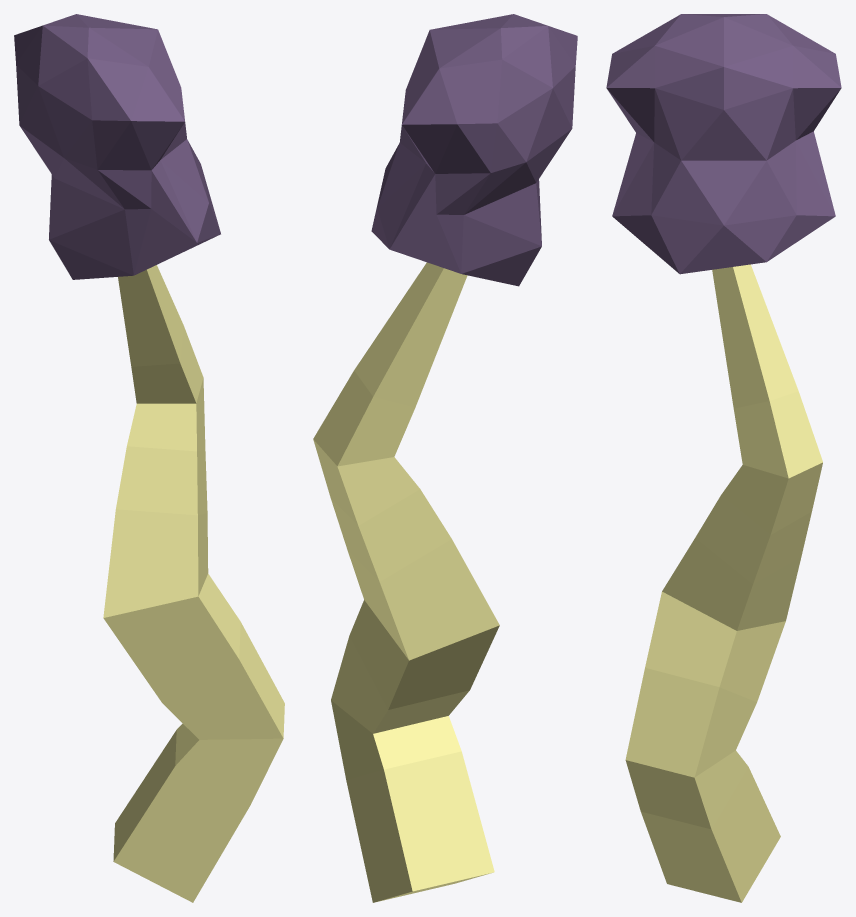
Rendered from Twisting Mushroom not fix.fbx.
The picture shows the model from 3 angles, left to right: view 1: azimuth 30°, elevation 25°; view 2: azimuth 150°, elevation 25°; view 3: azimuth 270°, elevation 25°; orthographic projection. The views are drawn at different scales.
Parts seen in each view (by area): view 1: Cube.033, Icosphere; view 2: Cube.033, Icosphere; view 3: Cube.033, Icosphere.
Boxes of the visible parts, left/top/right/bottom form: Cube.033: left=103, top=265, right=284, bottom=902; Icosphere: left=14, top=14, right=220, bottom=279; Cube.033: left=313, top=262, right=499, bottom=902; Icosphere: left=371, top=14, right=577, bottom=286; Cube.033: left=625, top=264, right=822, bottom=902; Icosphere: left=606, top=14, right=841, bottom=274.
Size of the model in its own units: 17.69 by 63.7 by 16.32.
